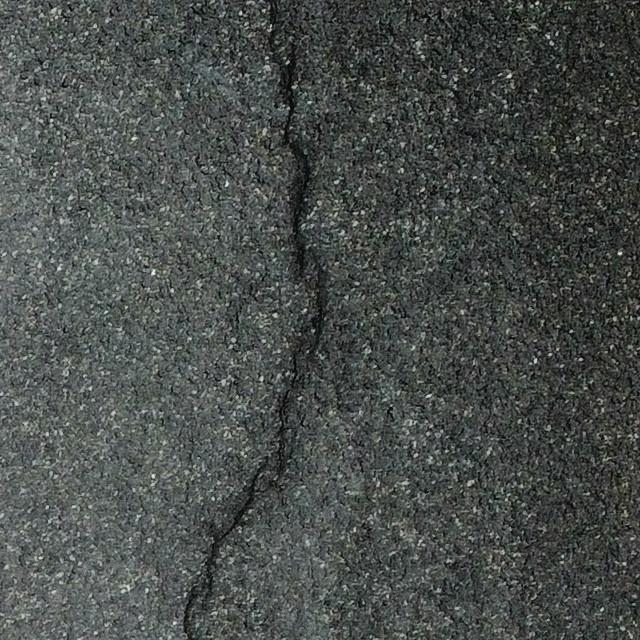LongitudinalCrack: (182, 1, 325, 638)
